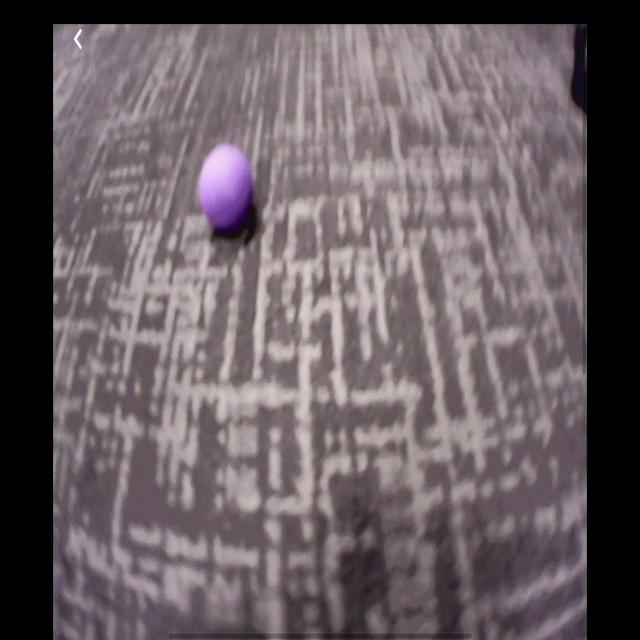ball: (200, 146, 251, 227)
